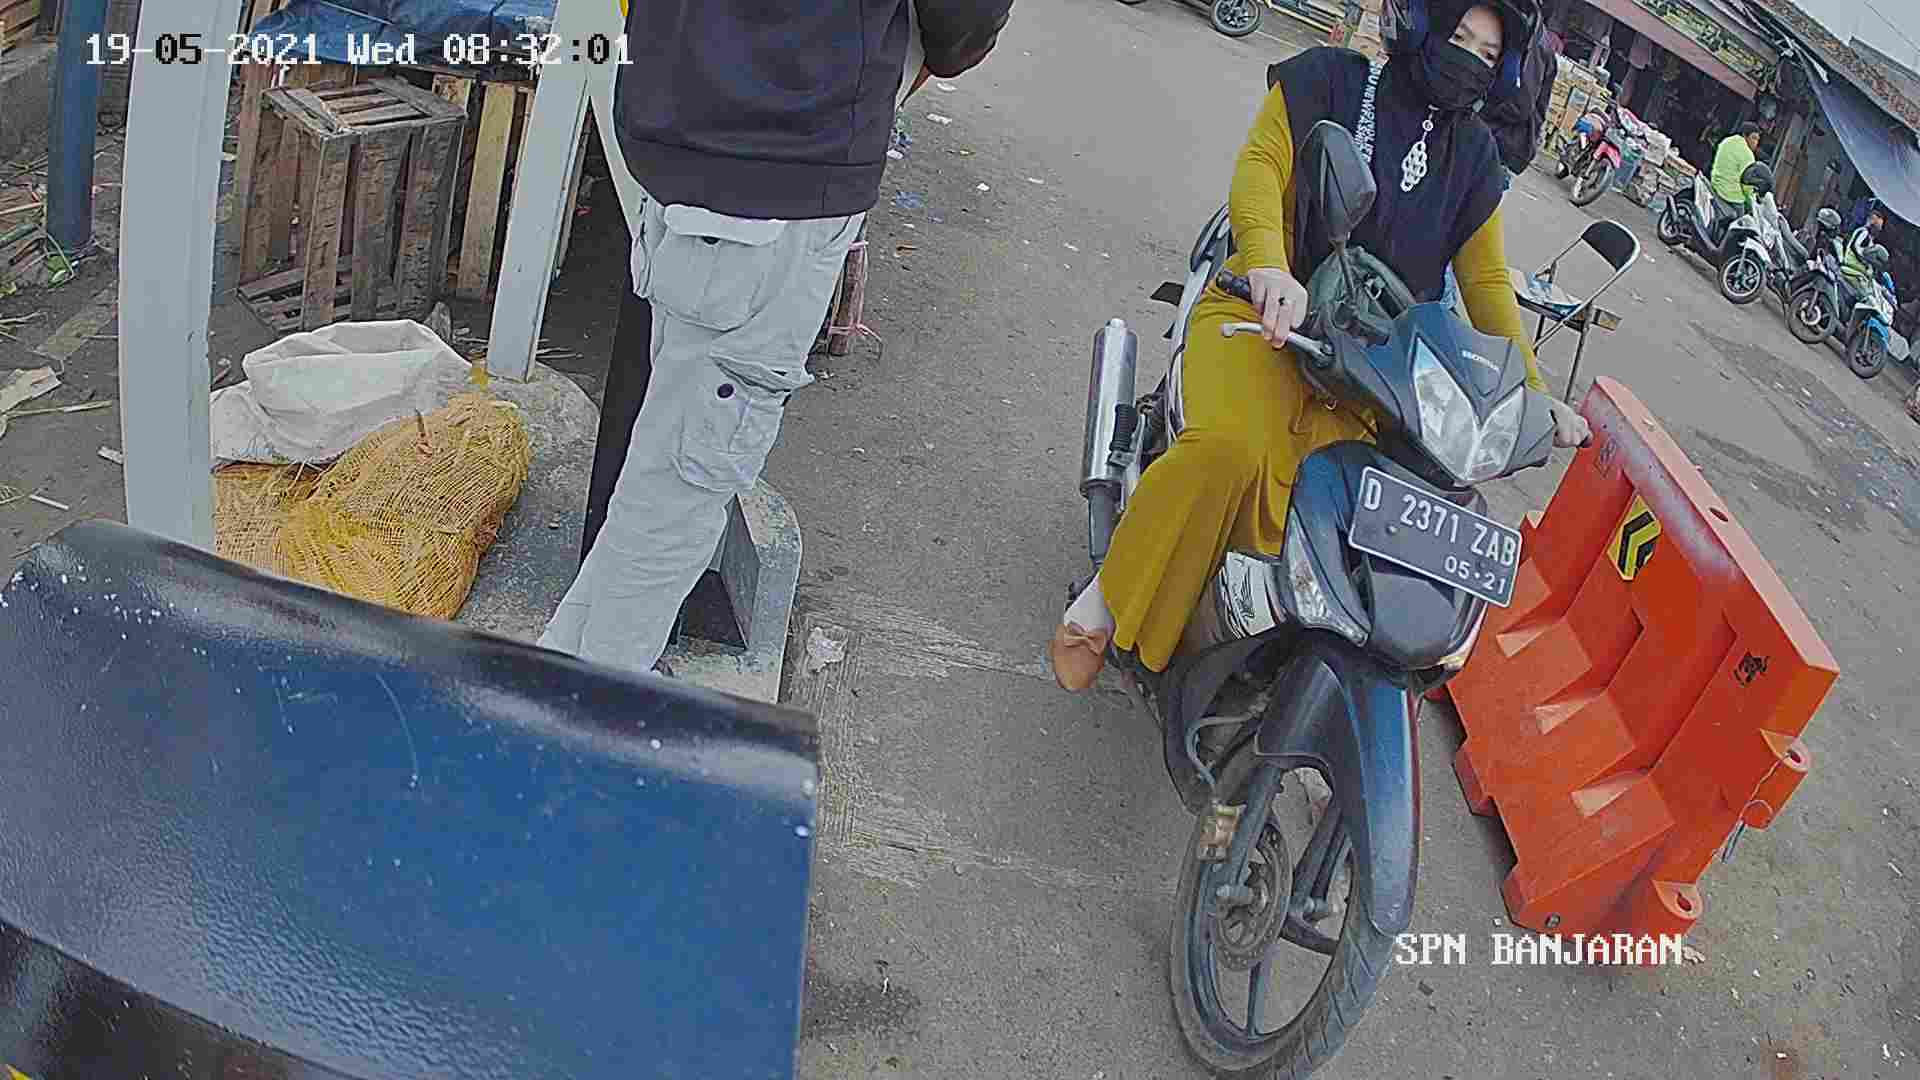motor: (1073, 200, 1563, 1072)
